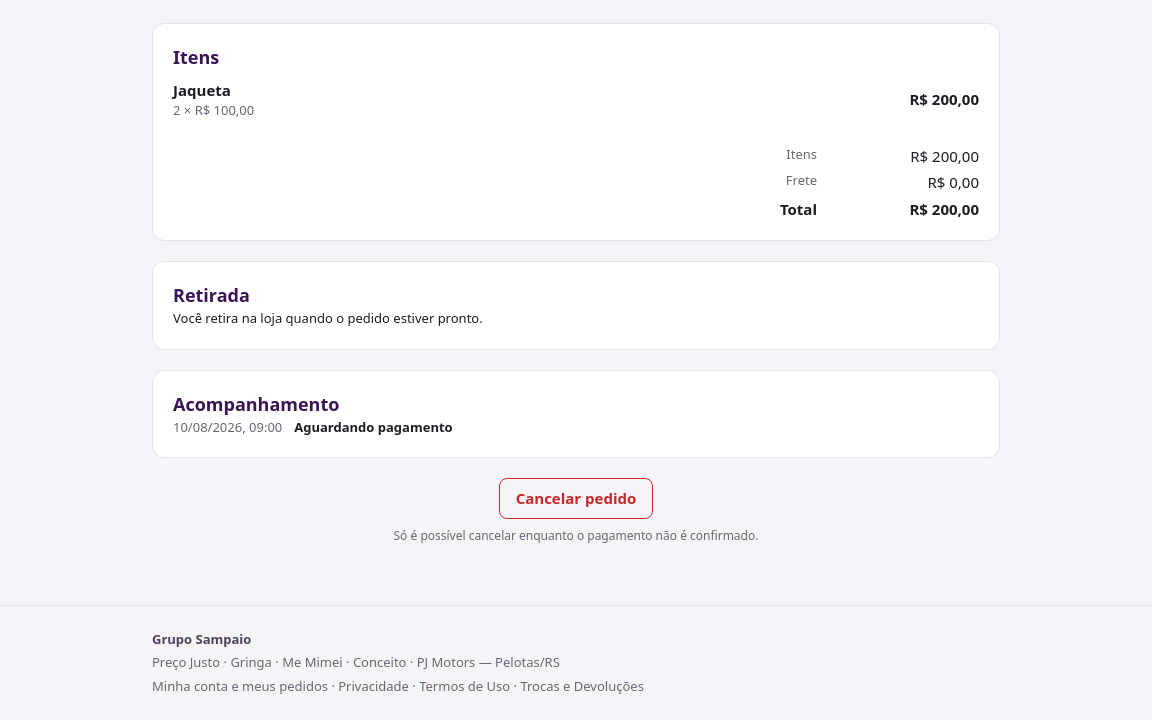
Test: o diálogo de cancelar pedido respeita o teclado › ao abrir, o foco entra no diálogo — no botão que NÃO destrói nada
(page scrolled)
Click the button "Cancelar pedido".
click(576, 498)  # box [499,478,653,518]
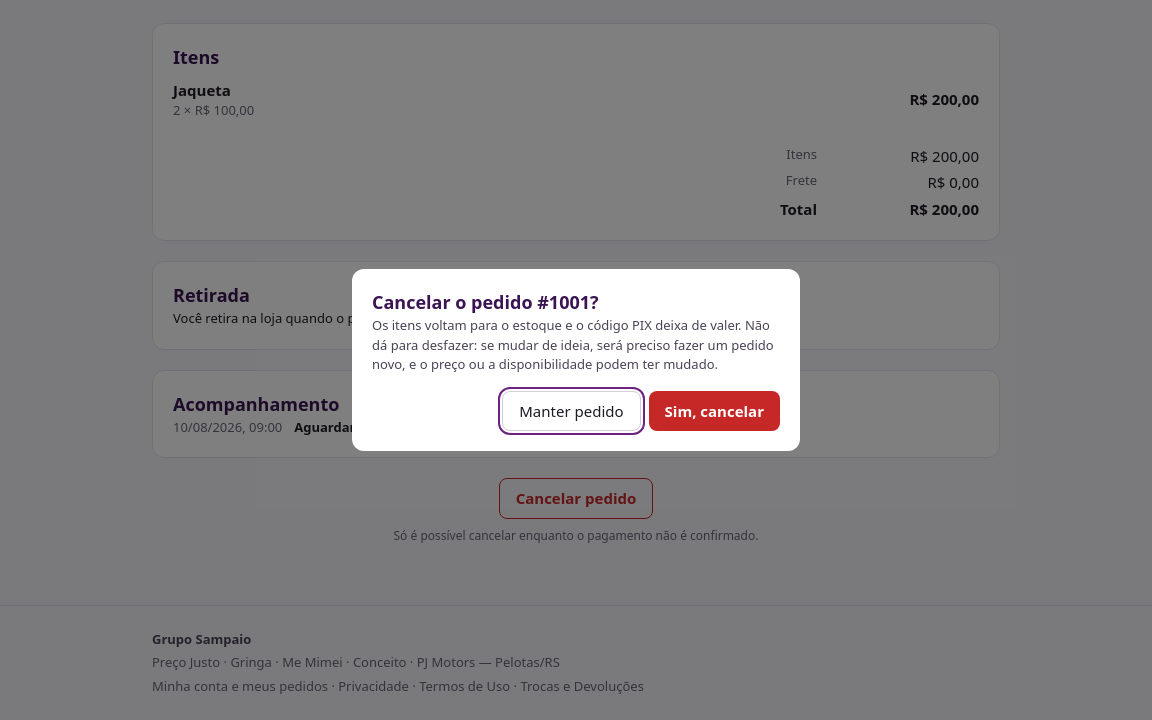
Check: the button "Manter pedido" is shown, box [502,390,641,431]
